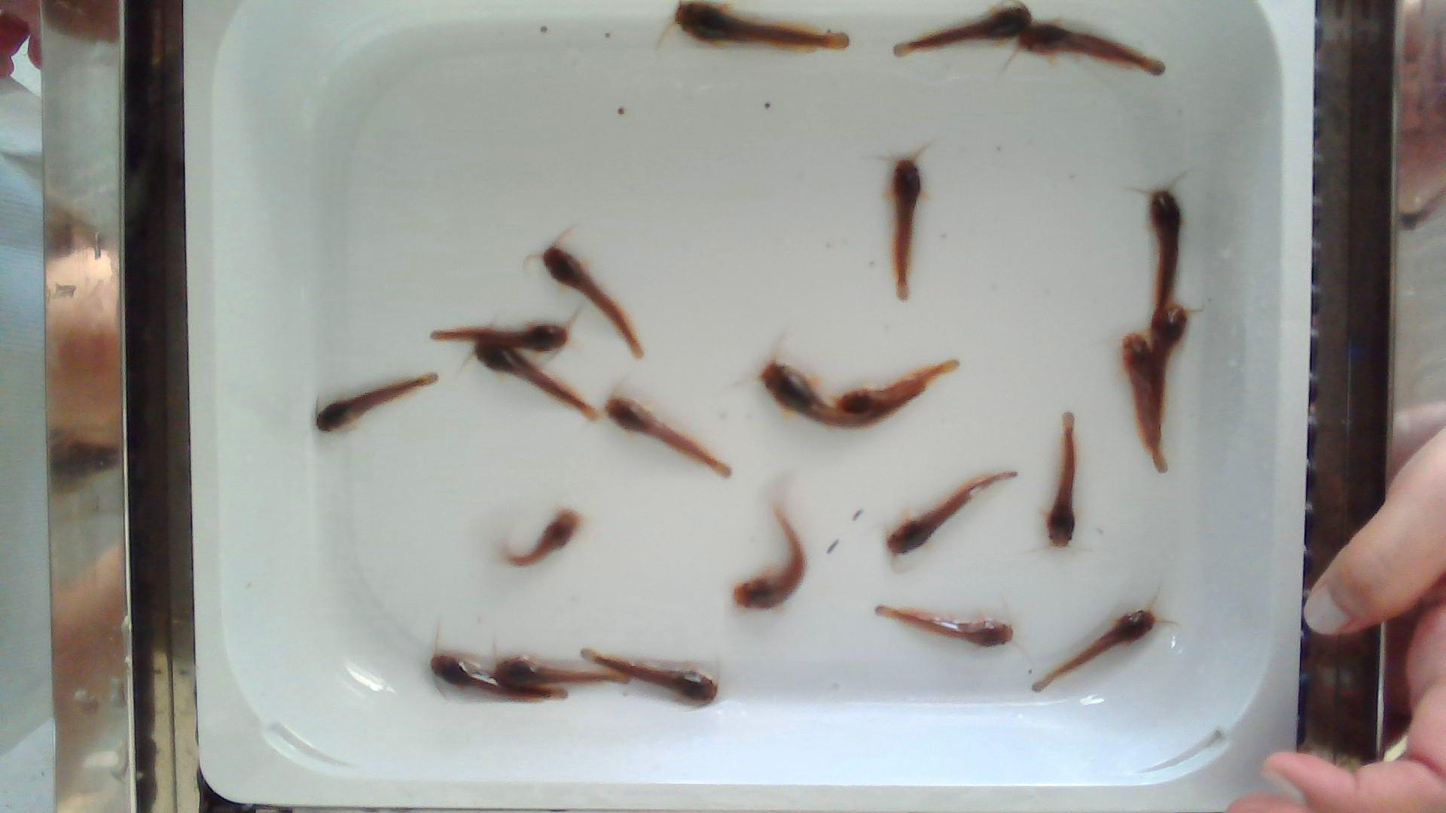lele: (541, 244, 644, 358), (886, 471, 1017, 555), (1033, 608, 1158, 690), (762, 358, 903, 429), (606, 397, 730, 476), (474, 341, 598, 420), (675, 0, 848, 49), (1019, 24, 1165, 79), (583, 649, 716, 704), (315, 373, 438, 431), (734, 509, 804, 607), (892, 8, 1032, 57), (427, 654, 567, 701), (1122, 334, 1169, 473), (838, 361, 962, 409), (876, 605, 1012, 646), (491, 655, 632, 691), (1151, 305, 1188, 432), (1148, 191, 1181, 333), (891, 157, 921, 300), (507, 509, 581, 565), (1046, 413, 1076, 547), (430, 324, 568, 352)
